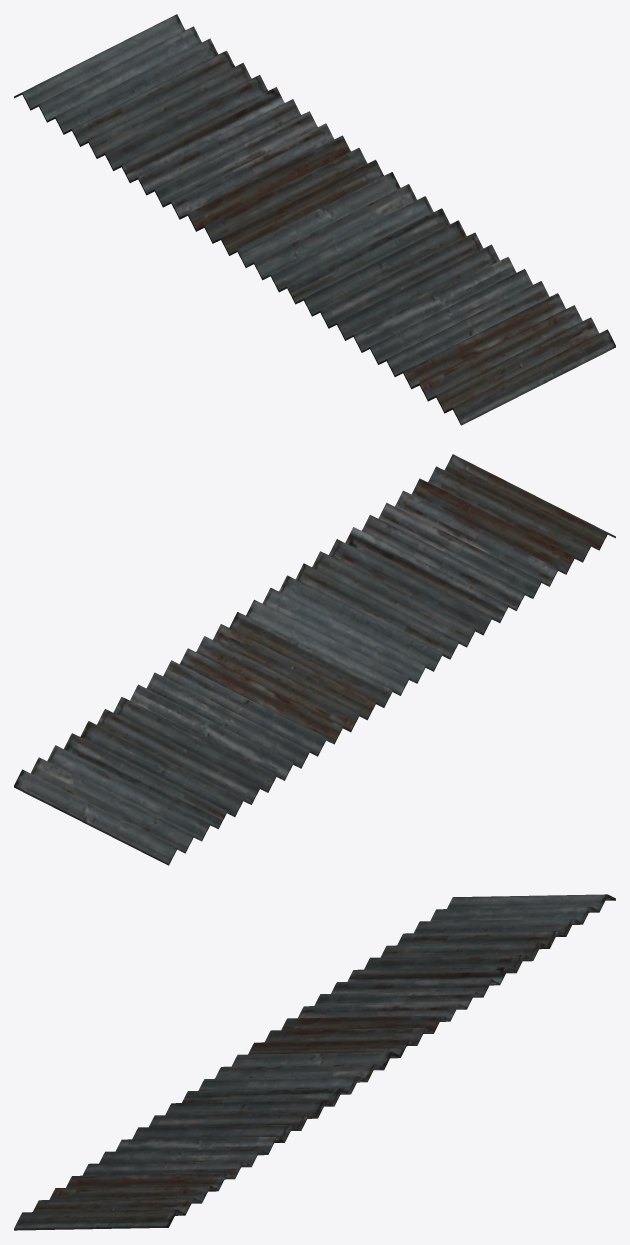
The model's file is roof_hr_3_side_1_angle.obj.
The picture shows the model from 3 angles, top to bottom: view 1: azimuth 30°, elevation 25°; view 2: azimuth 150°, elevation 25°; view 3: azimuth 330°, elevation 25°; orthographic projection.
Visible parts, largest first — view 1: roof_hr_3_side_1_angle; view 2: roof_hr_3_side_1_angle; view 3: roof_hr_3_side_1_angle.
Part boxes in pixels (left/top/right/bottom): roof_hr_3_side_1_angle: left=14, top=14, right=615, bottom=425; roof_hr_3_side_1_angle: left=14, top=454, right=615, bottom=865; roof_hr_3_side_1_angle: left=14, top=894, right=615, bottom=1230.
Bounding box in the file's own units: 0.8 × 0.26 × 4.
